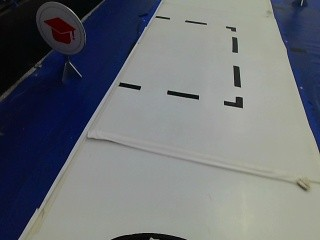school: (37, 1, 84, 57)
